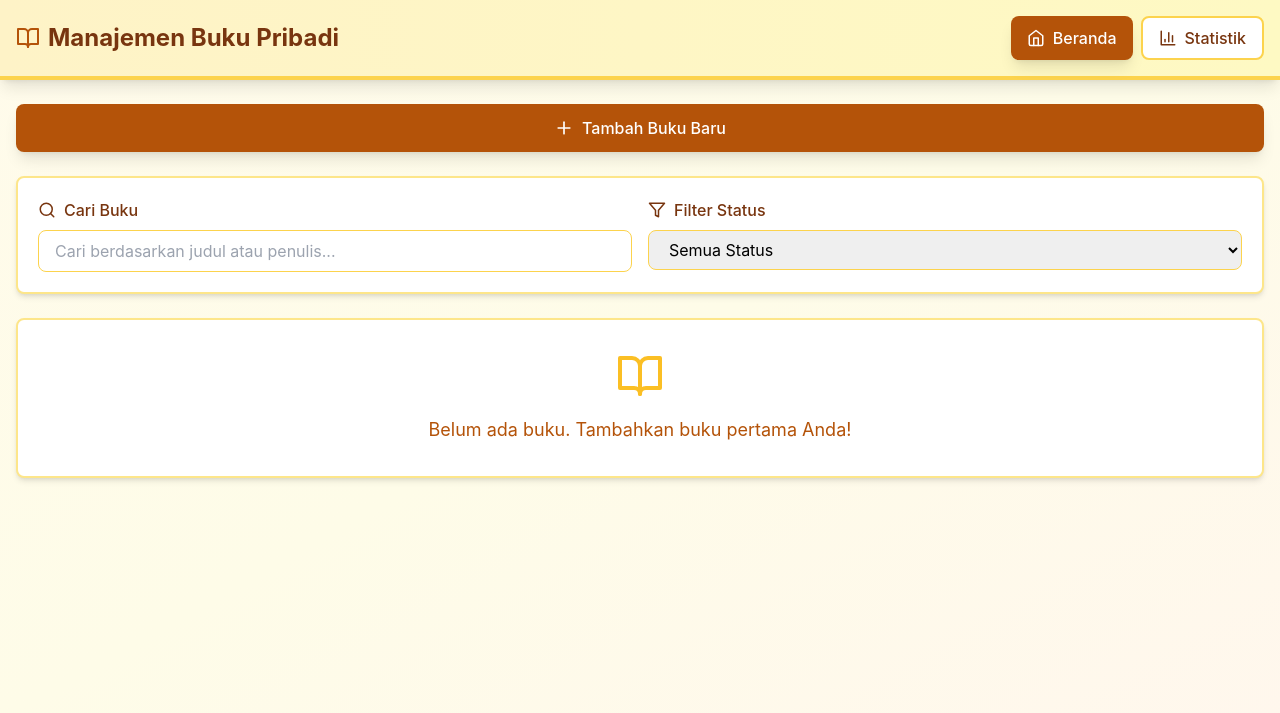
it: tombol tambah buku baru muncul dan bisa diklik
The image size is (1280, 713).
Klik tombol
Click the button "Tambah Buku Baru": (640, 128) left=16, top=104, right=1264, bottom=152
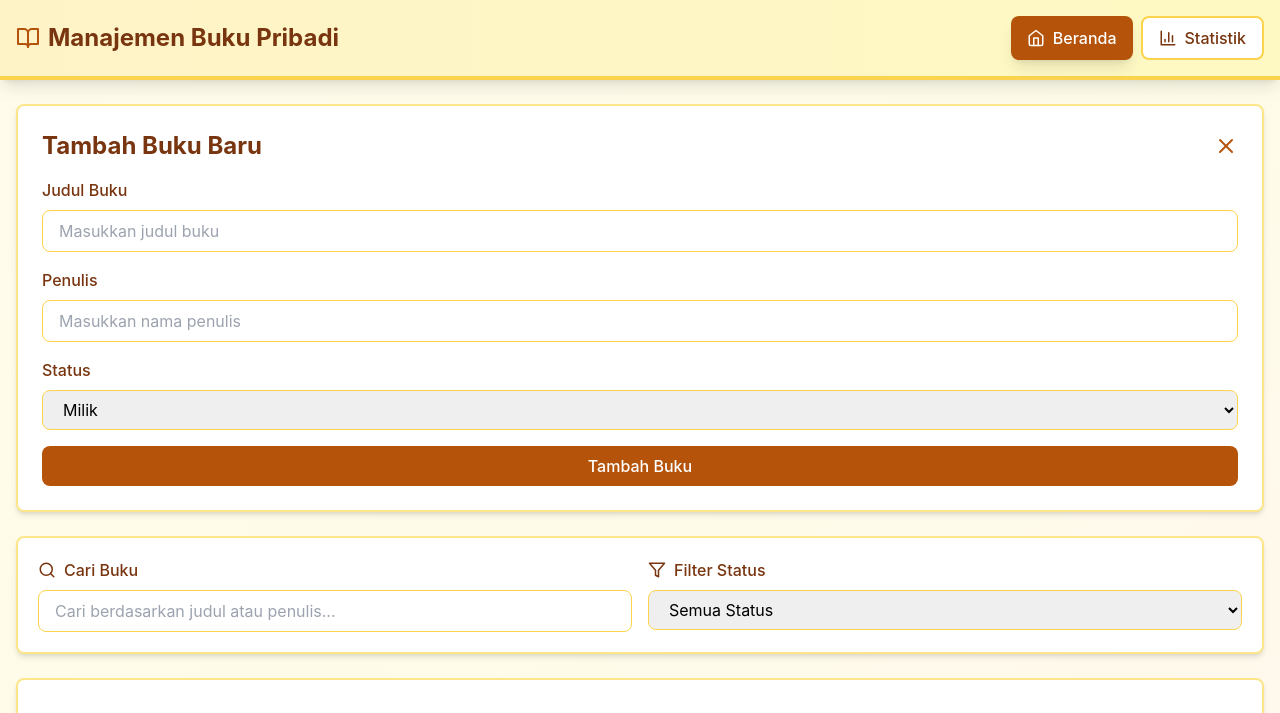
expect the text "Judul Buku" is shown: met, box left=42, top=180, right=127, bottom=200
